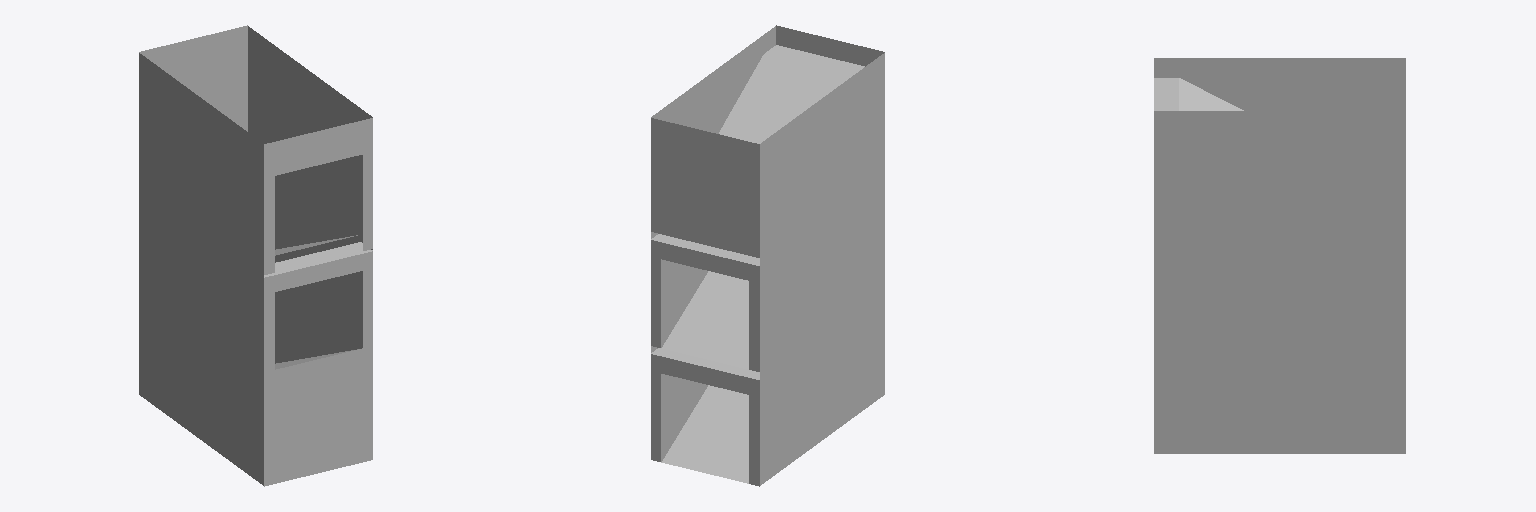
3 views of the same model, side by side, from view 1: azimuth 30°, elevation 25°; view 2: azimuth 150°, elevation 25°; view 3: azimuth 270°, elevation 25° (orthographic).
Visible parts, largest first — view 1: objobjRegroup03; view 2: objobjRegroup03; view 3: objobjRegroup03.
Part boxes in pixels (x1,y1,x2,y2): objobjRegroup03: (139, 25, 372, 486); objobjRegroup03: (651, 25, 884, 486); objobjRegroup03: (1154, 58, 1405, 453).
Size of the model in its own units: 10 by 30 by 20.